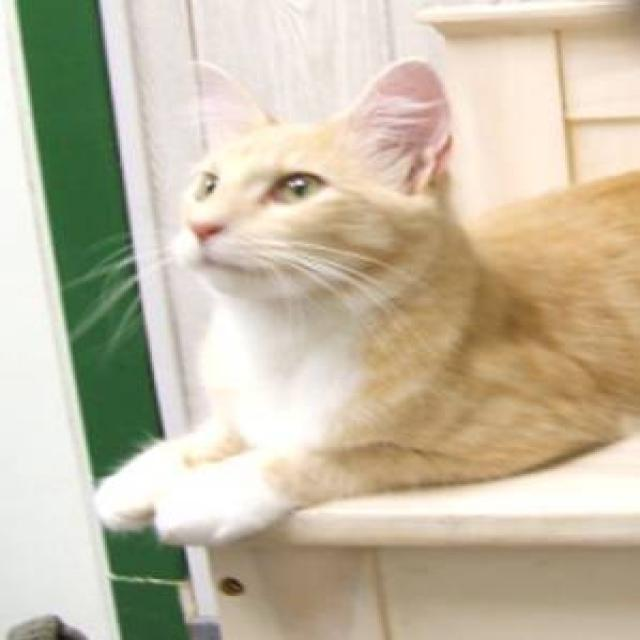cat: (73, 54, 638, 549)
